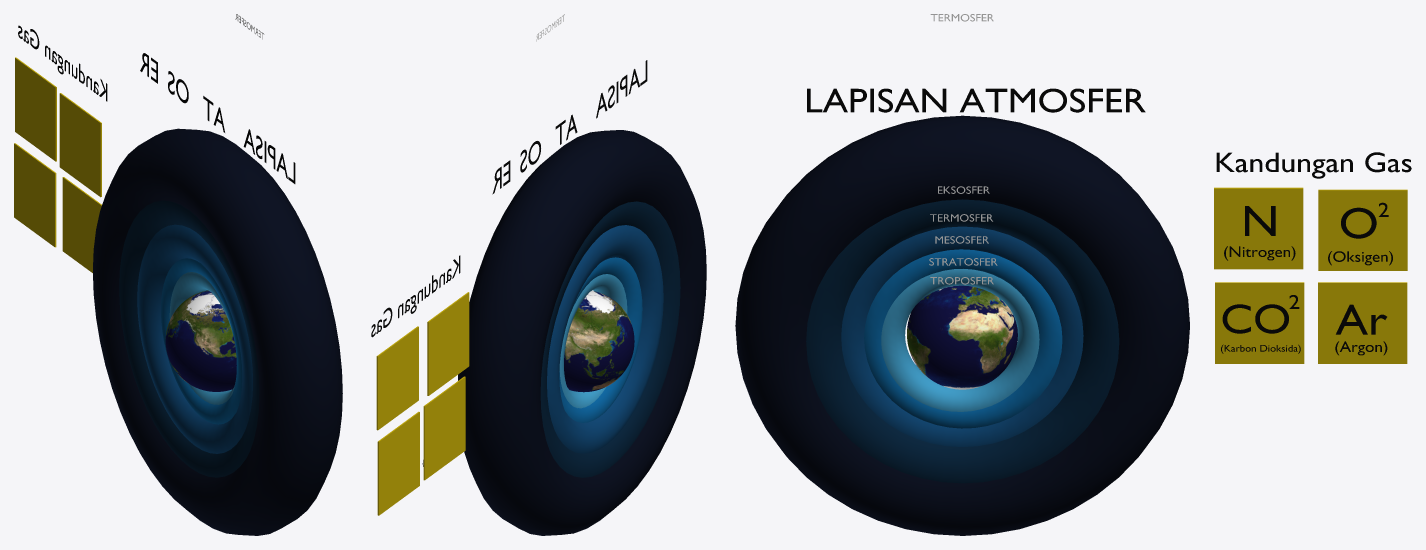
Rendered from atmosfer.fbx.
3 views of the same model, side by side, from view 1: azimuth 30°, elevation 25°; view 2: azimuth 150°, elevation 25°; view 3: azimuth 270°, elevation 25° (orthographic). The views are drawn at different scales.
Parts seen in each view (by area): view 1: Torus.006, Sphere, Cube.003, Cube, Cube.001, Cube.002, Text, Text.006; view 2: Torus.006, Sphere, Cube.001, Cube.002, Cube.003, Cube, Text, Text.006; view 3: Torus.006, Sphere, Cube, Cube.003, Cube.001, Cube.002, Text, Text.006.
Boxes of the visible parts, bbox=[...] form: Torus.006: bbox=[93, 128, 342, 535]; Sphere: bbox=[165, 290, 236, 391]; Cube.003: bbox=[14, 143, 56, 247]; Cube: bbox=[59, 93, 101, 197]; Cube.001: bbox=[15, 57, 56, 161]; Cube.002: bbox=[62, 177, 101, 272]; Text: bbox=[140, 53, 295, 183]; Text.006: bbox=[18, 25, 107, 101]; Torus.006: bbox=[458, 130, 706, 535]; Sphere: bbox=[564, 291, 634, 392]; Cube.001: bbox=[376, 326, 418, 430]; Cube.002: bbox=[423, 376, 465, 480]; Cube.003: bbox=[377, 411, 419, 515]; Cube: bbox=[427, 292, 469, 395]; Text: bbox=[492, 60, 647, 194]; Text.006: bbox=[371, 255, 460, 337]; Torus.006: bbox=[735, 115, 1189, 535]; Sphere: bbox=[907, 285, 1017, 389]; Cube: bbox=[1214, 187, 1303, 269]; Cube.003: bbox=[1318, 282, 1407, 363]; Cube.001: bbox=[1318, 189, 1407, 270]; Cube.002: bbox=[1215, 282, 1304, 363]; Text: bbox=[807, 88, 1145, 112]; Text.006: bbox=[1216, 152, 1411, 178].
Size of the model in its own units: 198 by 1050 by 1203.
